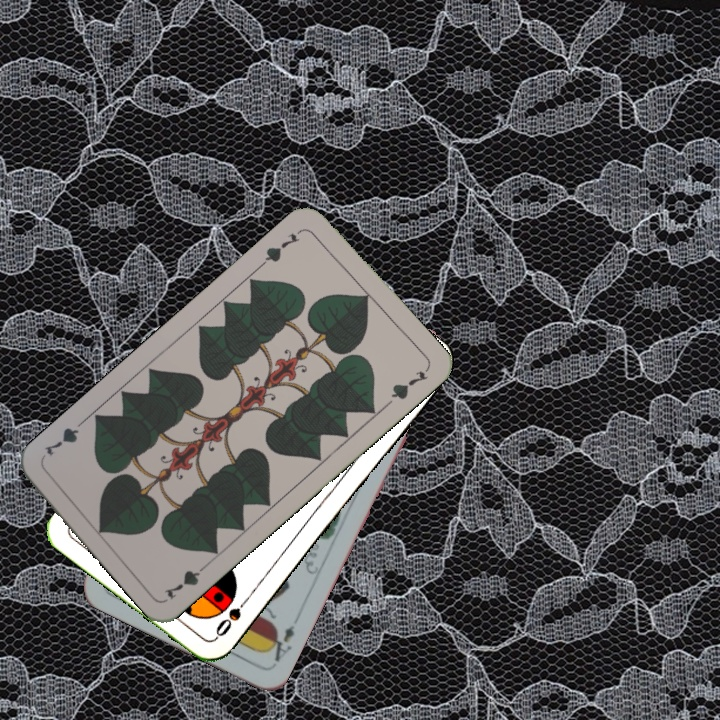EA: (262, 621, 297, 665)
G7: (160, 558, 212, 602), (257, 225, 305, 269)
SO: (211, 591, 254, 640)
